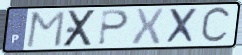C: (199, 4, 234, 47)
M: (24, 9, 67, 49)
P: (96, 9, 131, 47)
X: (61, 8, 99, 49), (130, 7, 166, 47), (164, 7, 200, 45)
